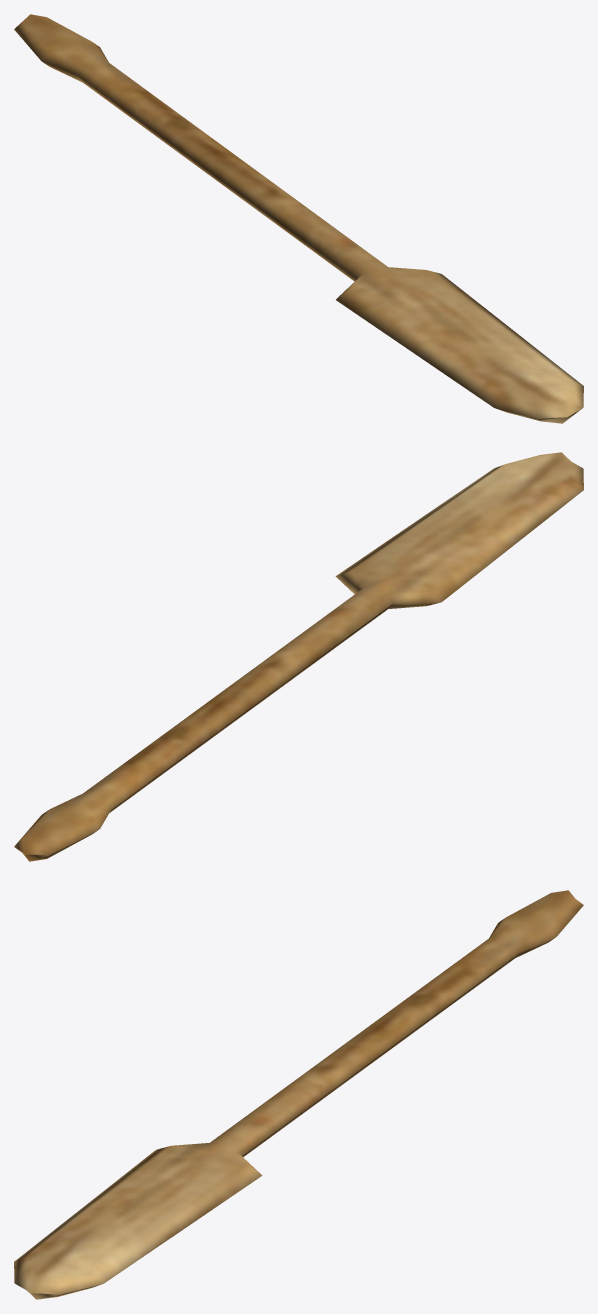
Rendered from stick.fbx.
3 renders of one model, top to bottom at view 1: azimuth 30°, elevation 25°; view 2: azimuth 150°, elevation 25°; view 3: azimuth 330°, elevation 25°, orthographic.
Visible parts, largest first — view 1: stick; view 2: stick; view 3: stick.
Part boxes in pixels (x1=…): stick: x1=14, y1=14, x2=583, y2=423; stick: x1=14, y1=452, x2=583, y2=861; stick: x1=14, y1=890, x2=583, y2=1299.
Bounding box in the file's own units: 1.73 × 0.3091 × 15.23.
1 material, 1 textured.
